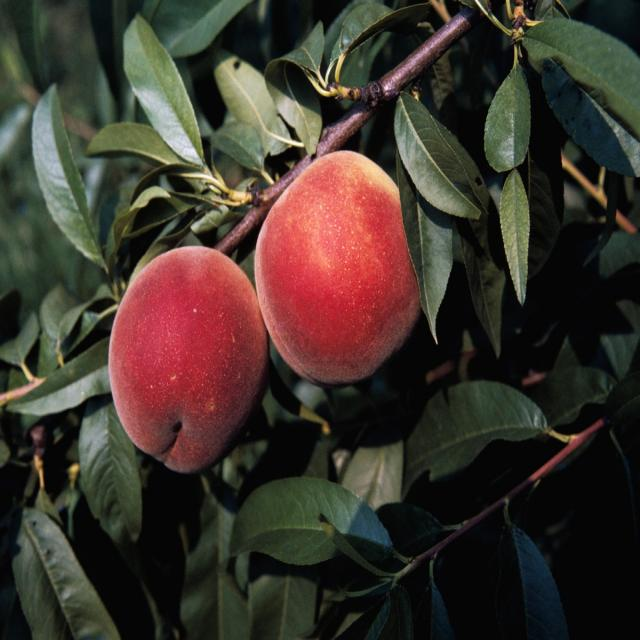Peach: (0, 0, 635, 640)
